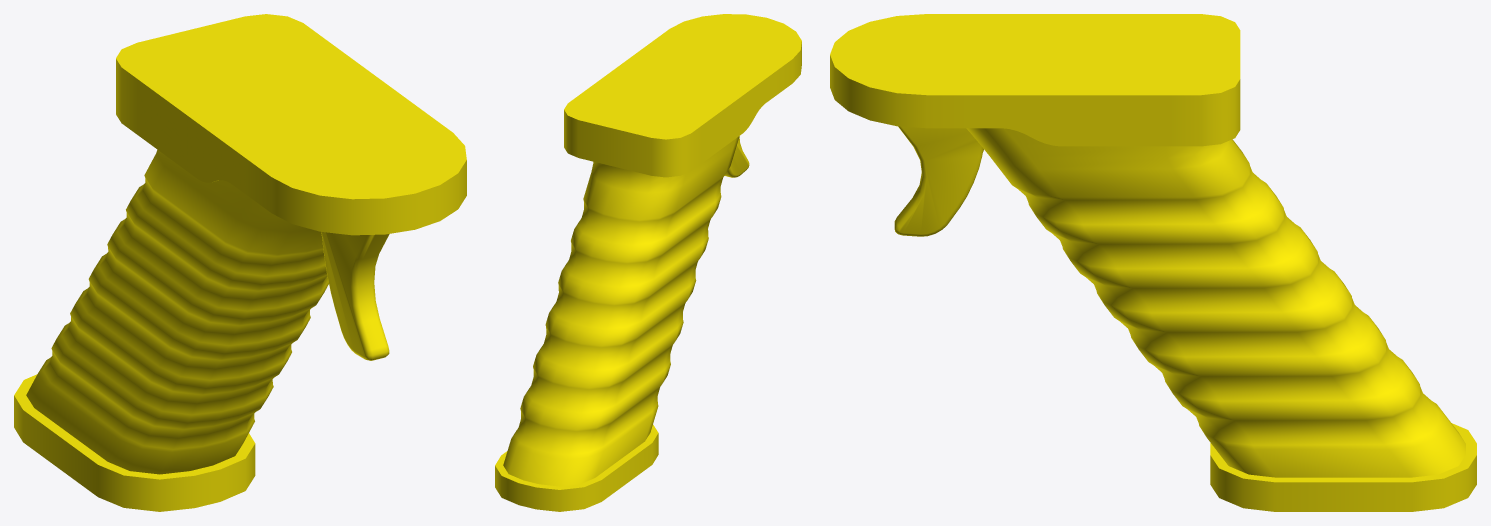
File: part_gripp_03.fbx
The picture shows the model from 3 angles, left to right: view 1: azimuth 30°, elevation 25°; view 2: azimuth 150°, elevation 25°; view 3: azimuth 270°, elevation 25°; orthographic projection. The views are drawn at different scales.
Parts seen in each view (by area): view 1: part_gripp_03; view 2: part_gripp_03; view 3: part_gripp_03.
Boxes of the visible parts, x1,y1,x2,y2 form: part_gripp_03: [14, 14, 466, 511]; part_gripp_03: [495, 14, 801, 511]; part_gripp_03: [830, 14, 1476, 511].
Bounding box in the file's own units: 5.34 × 13.02 × 17.99.
